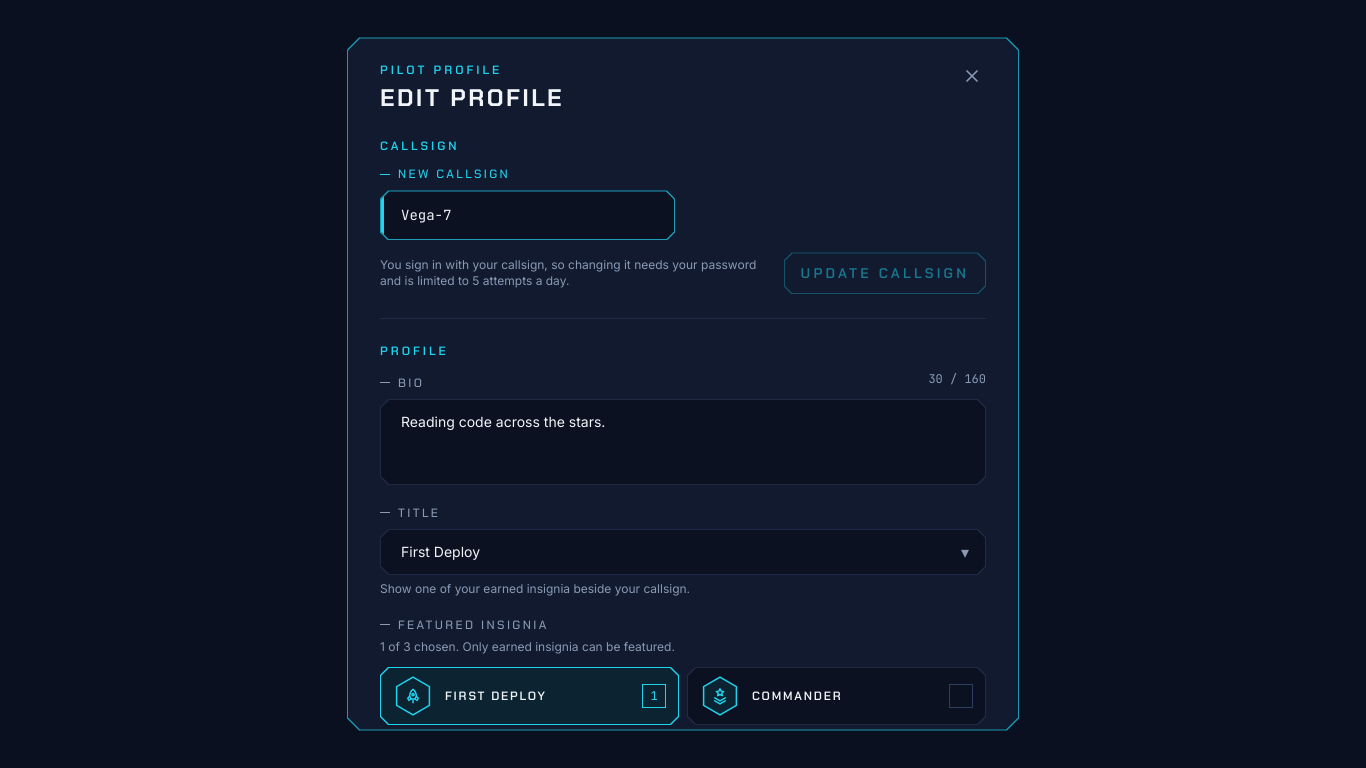
Test: EditProfileDialog › callsign › can only be updated once changed, and then asks for the password
Expected: the button "Update callsign" is disabled, 784,252 -> 986,294
Type "X" into the field labelled "New callsign" at (528,215), box 381,191 -> 674,239
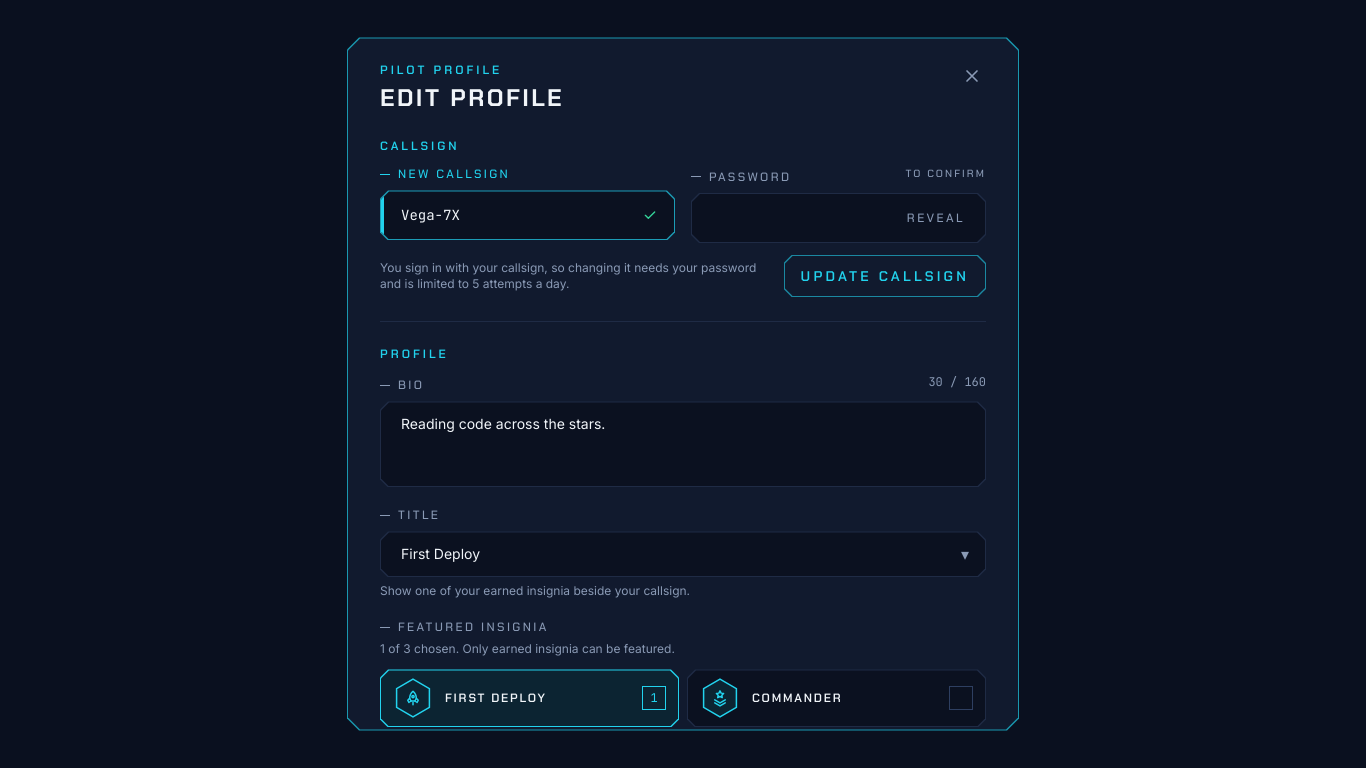
Expected: the password field labelled "Password" is shown, 692,194 -> 895,242
Expected: the button "Update callsign" is enabled, 784,255 -> 986,297
